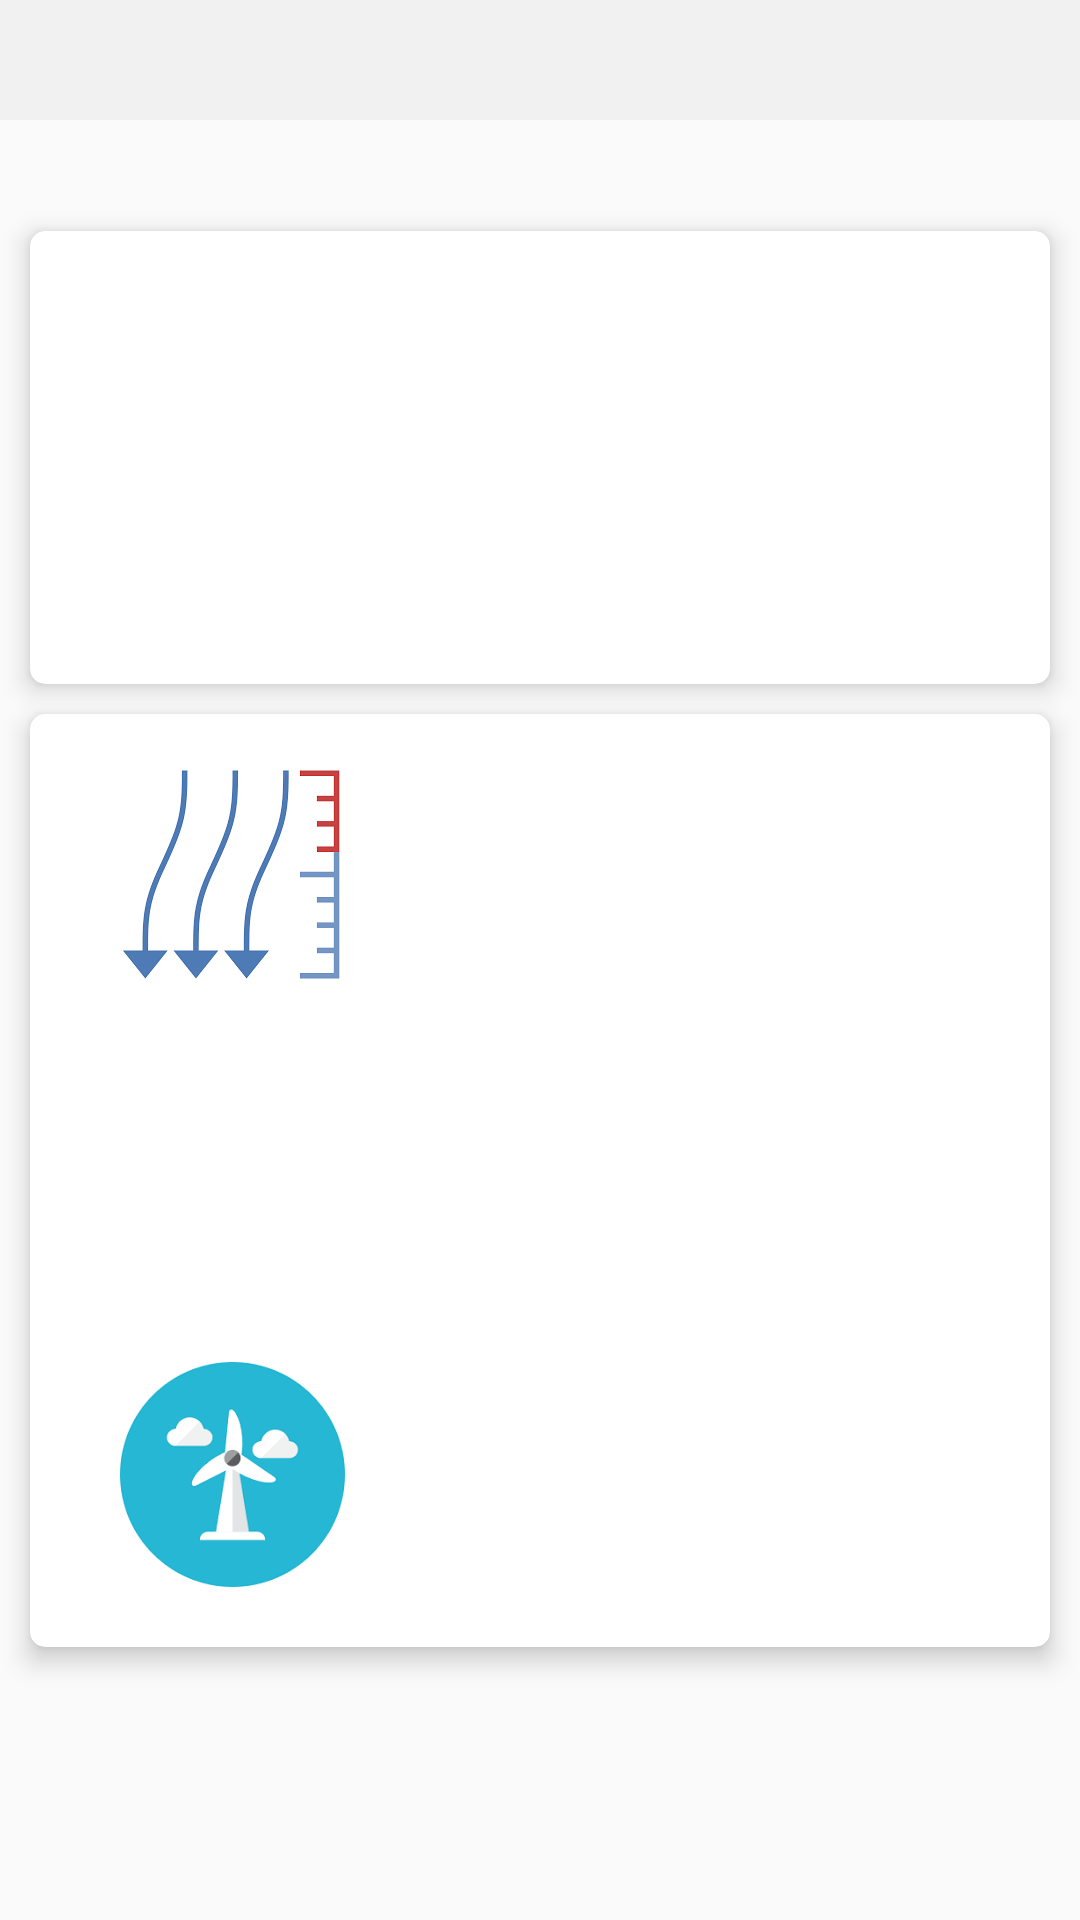

Where icons sit on this 1080px x 1920px app screen, as (x1, y1, x2, y2):
atm pressure: (123, 770, 340, 979)
wind: (120, 1362, 345, 1587)
